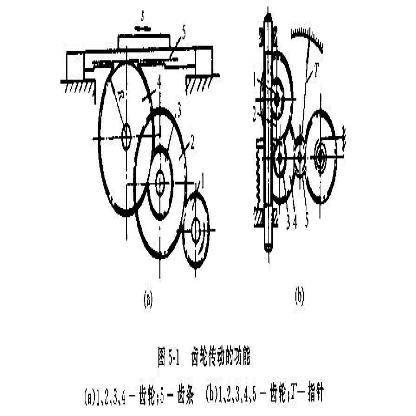FOD: (96, 63, 157, 222), (181, 191, 210, 272)
